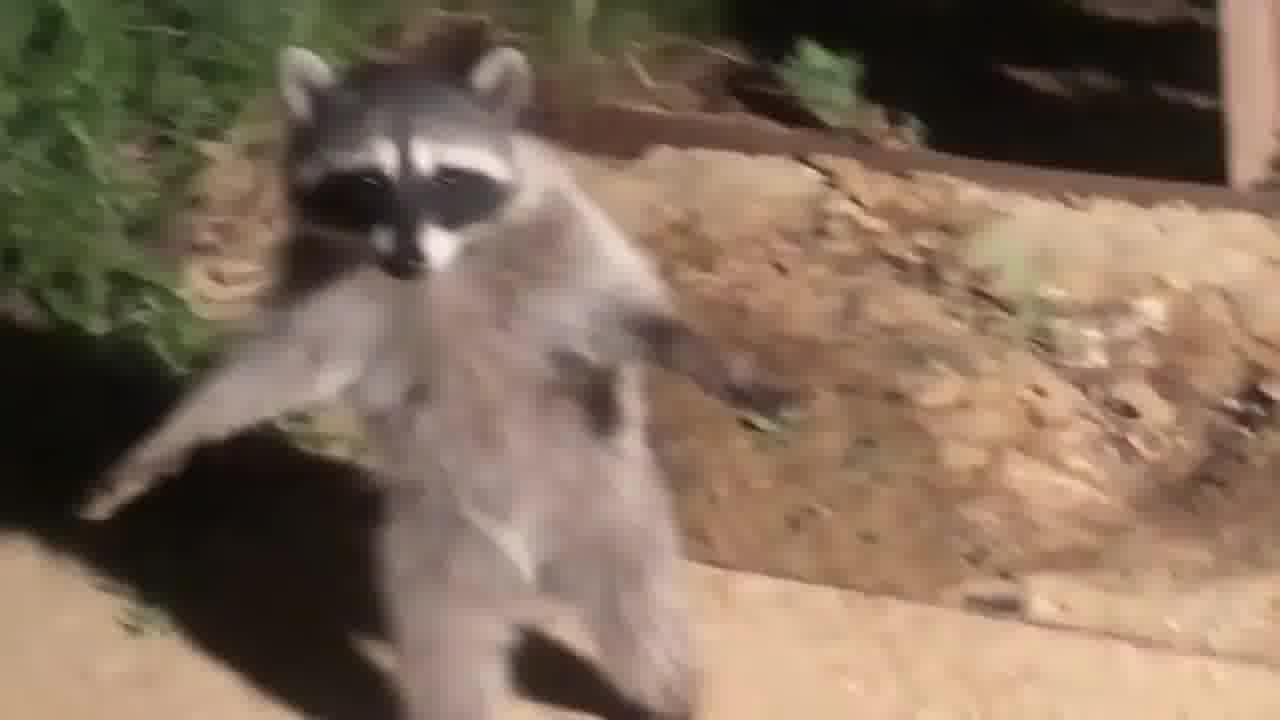raccoon: (79, 46, 808, 720)
